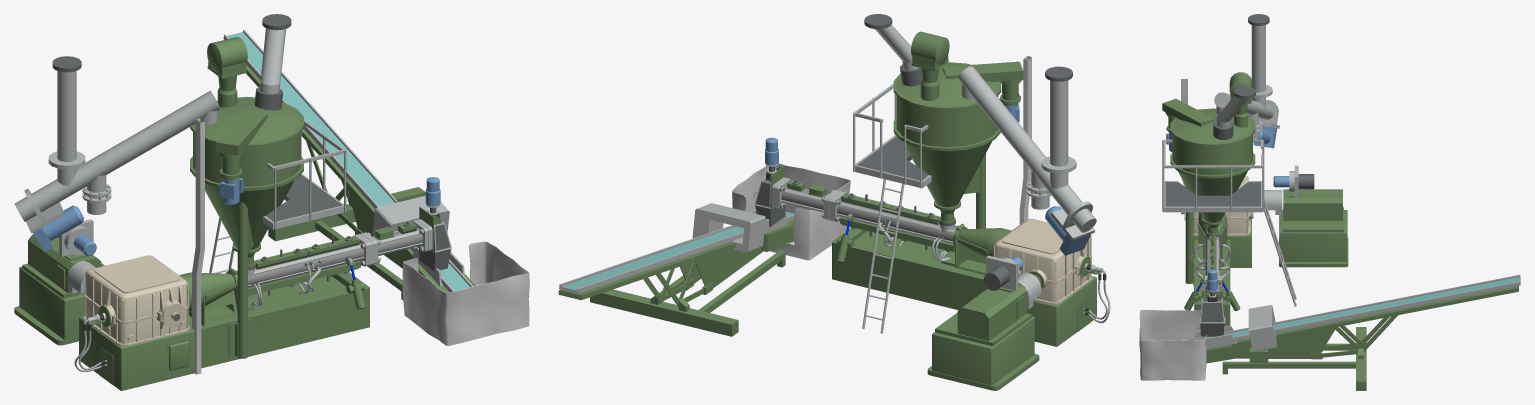
File: Extruder.fbx
3 renders of one model, left to right at view 1: azimuth 30°, elevation 25°; view 2: azimuth 150°, elevation 25°; view 3: azimuth 270°, elevation 25°, orthographic. The views are drawn at different scales.
Parts seen in each view (by area): view 1: ExtruderFullLine_2; view 2: ExtruderFullLine_2; view 3: ExtruderFullLine_2.
Part boxes in pixels (bbox=[...]): ExtruderFullLine_2: bbox=[14, 14, 529, 390]; ExtruderFullLine_2: bbox=[558, 14, 1110, 390]; ExtruderFullLine_2: bbox=[1139, 14, 1520, 390].
Bounding box in the file's own units: 64.81 × 61.46 × 39.56.
